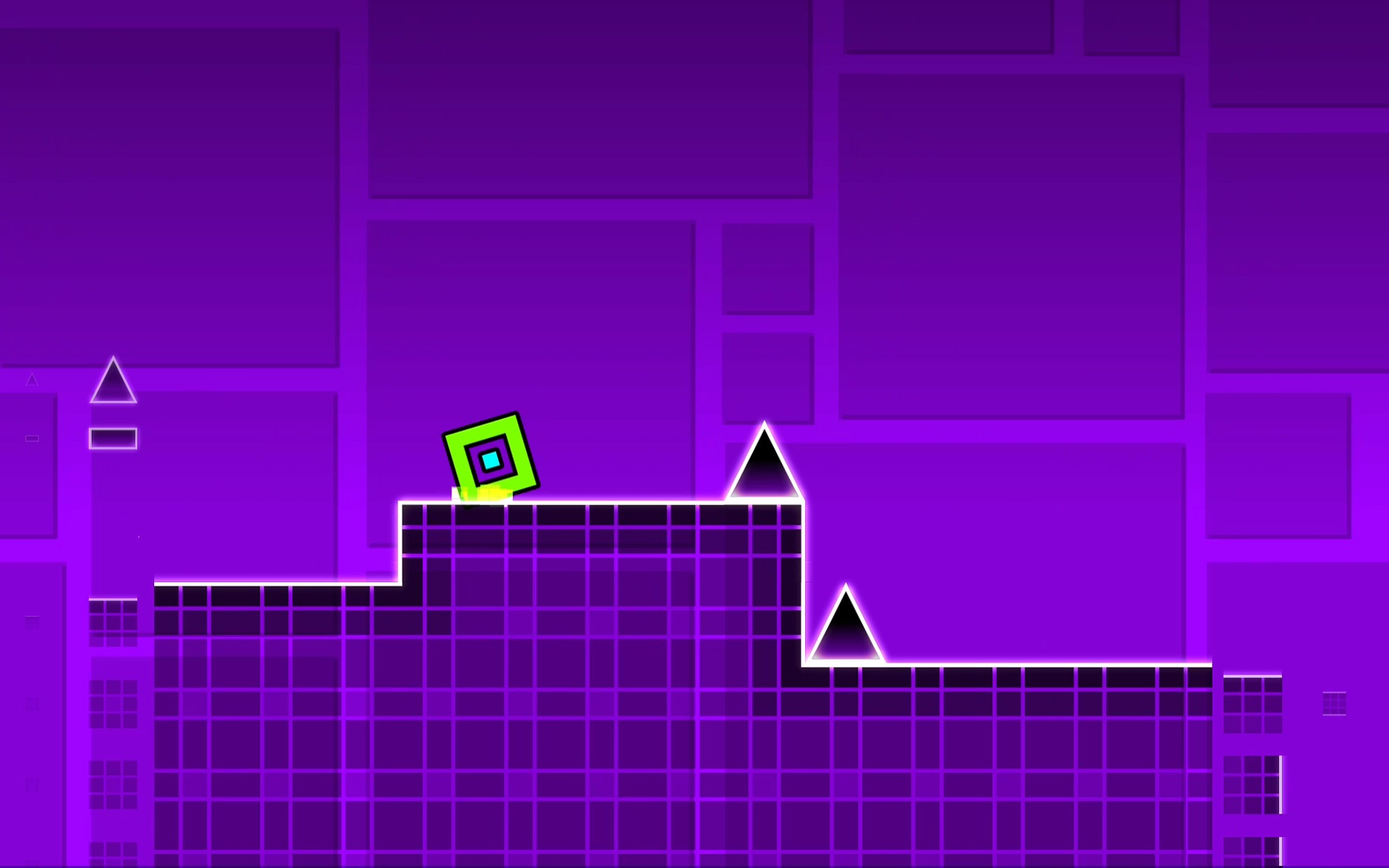Block2: (395, 504, 809, 868), (801, 664, 1285, 868), (90, 584, 398, 868)
Block3: (88, 428, 137, 450)
Player: (442, 410, 540, 500)
Spike: (807, 584, 884, 663), (725, 423, 802, 501), (88, 356, 137, 402)
